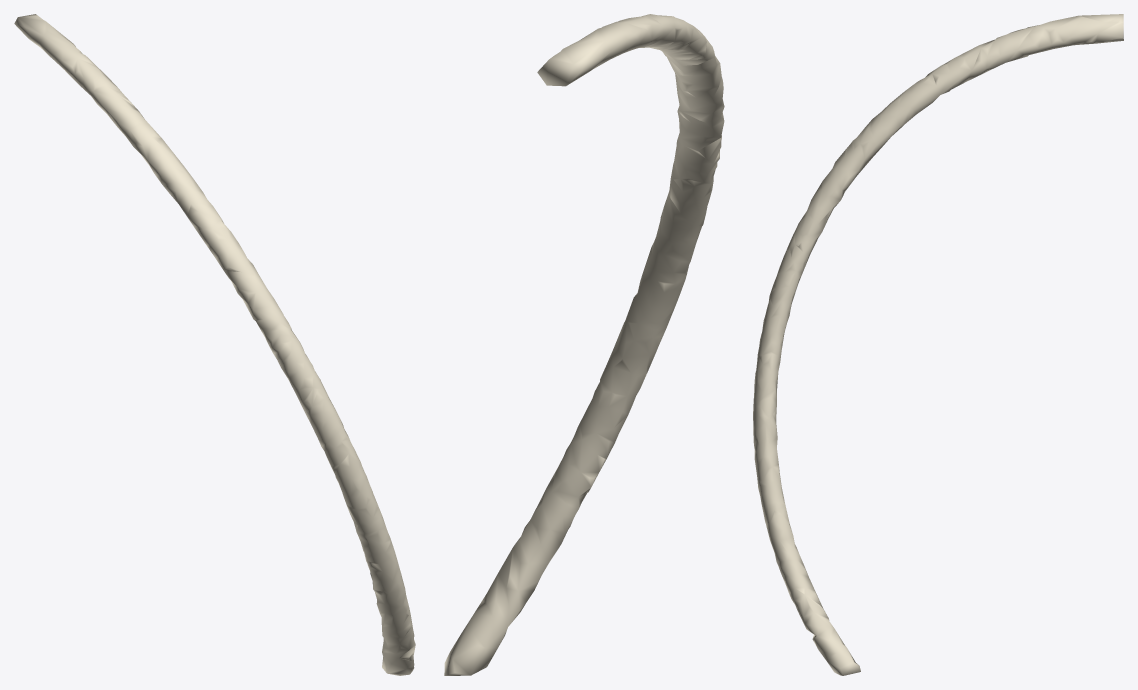
Rendered from rib_11_l.glb.
The picture shows the model from 3 angles, left to right: view 1: azimuth 30°, elevation 25°; view 2: azimuth 150°, elevation 25°; view 3: azimuth 270°, elevation 25°; orthographic projection. The views are drawn at different scales.
Parts seen in each view (by area): view 1: geometry_0; view 2: geometry_0; view 3: geometry_0.
Part boxes in pixels (box(x1,y1,x2,y2)): geometry_0: box(14, 14, 415, 675); geometry_0: box(444, 14, 724, 675); geometry_0: box(753, 14, 1123, 675).
Bounding box in the file's own units: 0.2941 × 0.6793 × 0.4124.
